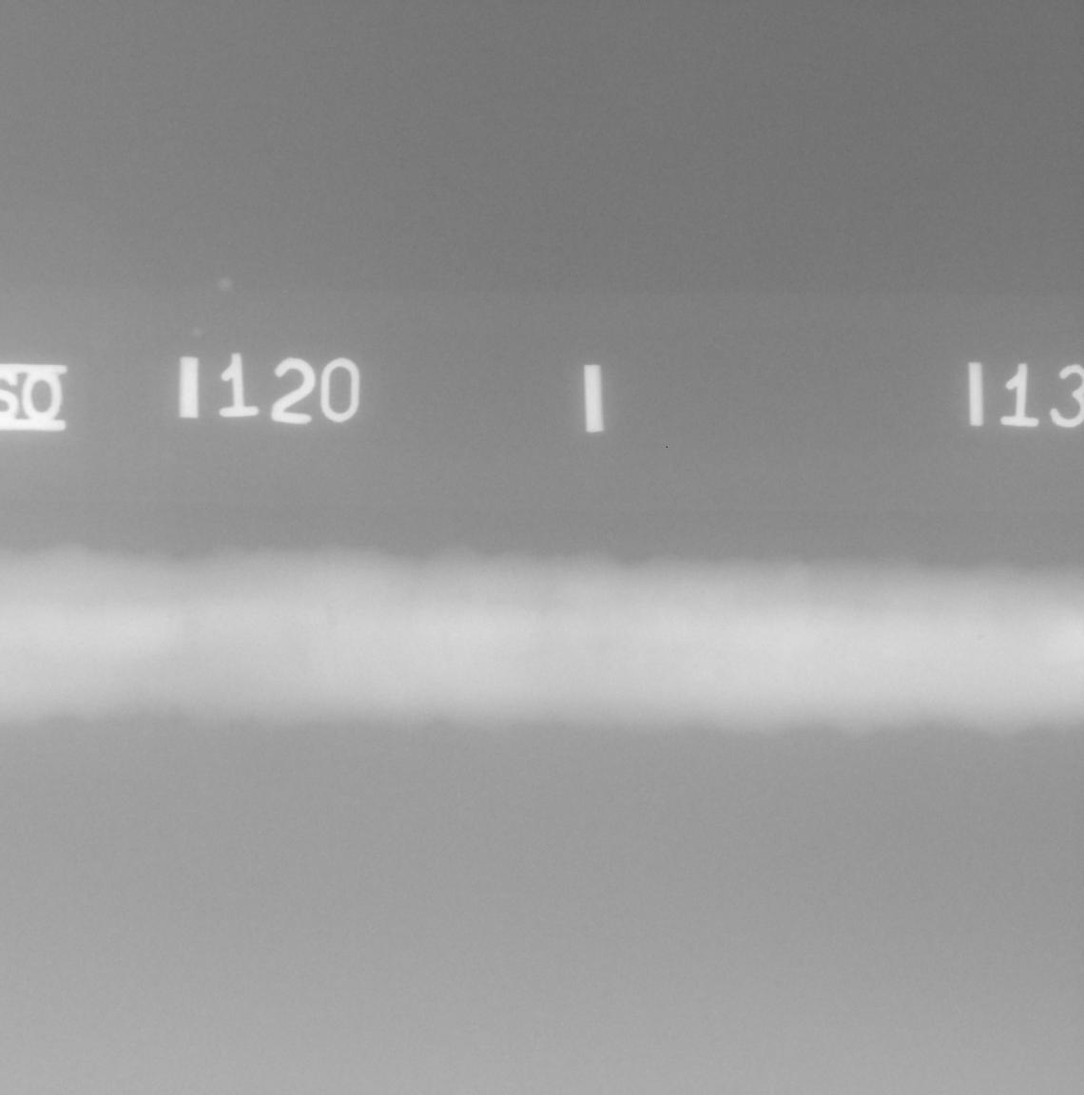Inclusion: (977, 635, 982, 641)
